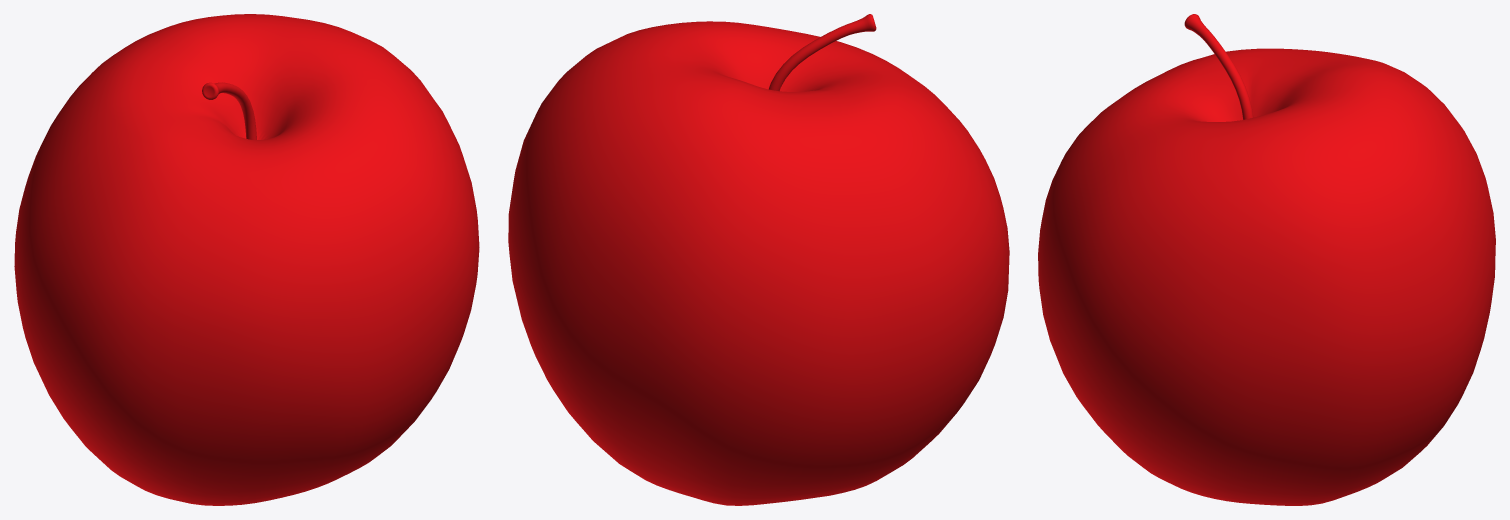
The model's file is apple.fbx.
3 renders of one model, left to right at view 1: azimuth 30°, elevation 25°; view 2: azimuth 150°, elevation 25°; view 3: azimuth 270°, elevation 25°, orthographic. The views are drawn at different scales.
Parts seen in each view (by area): view 1: AppleT4; view 2: AppleT4; view 3: AppleT4.
Part boxes in pixels (x1,y1,x2,y2): AppleT4: [14, 14, 479, 505]; AppleT4: [508, 14, 1009, 505]; AppleT4: [1038, 14, 1495, 505].
Size of the model in its own units: 8.27 by 8.2 by 8.08.
